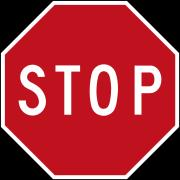Stop: (6, 5, 177, 169)
